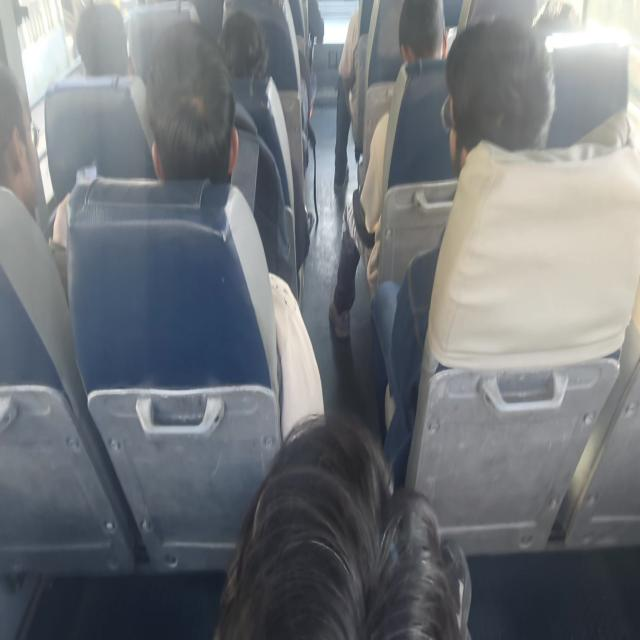person: (370, 15, 556, 487), (144, 19, 325, 439), (214, 410, 472, 638), (328, 0, 448, 339), (0, 61, 72, 304), (144, 19, 240, 183), (333, 7, 360, 193), (74, 2, 132, 76), (218, 10, 268, 80)
